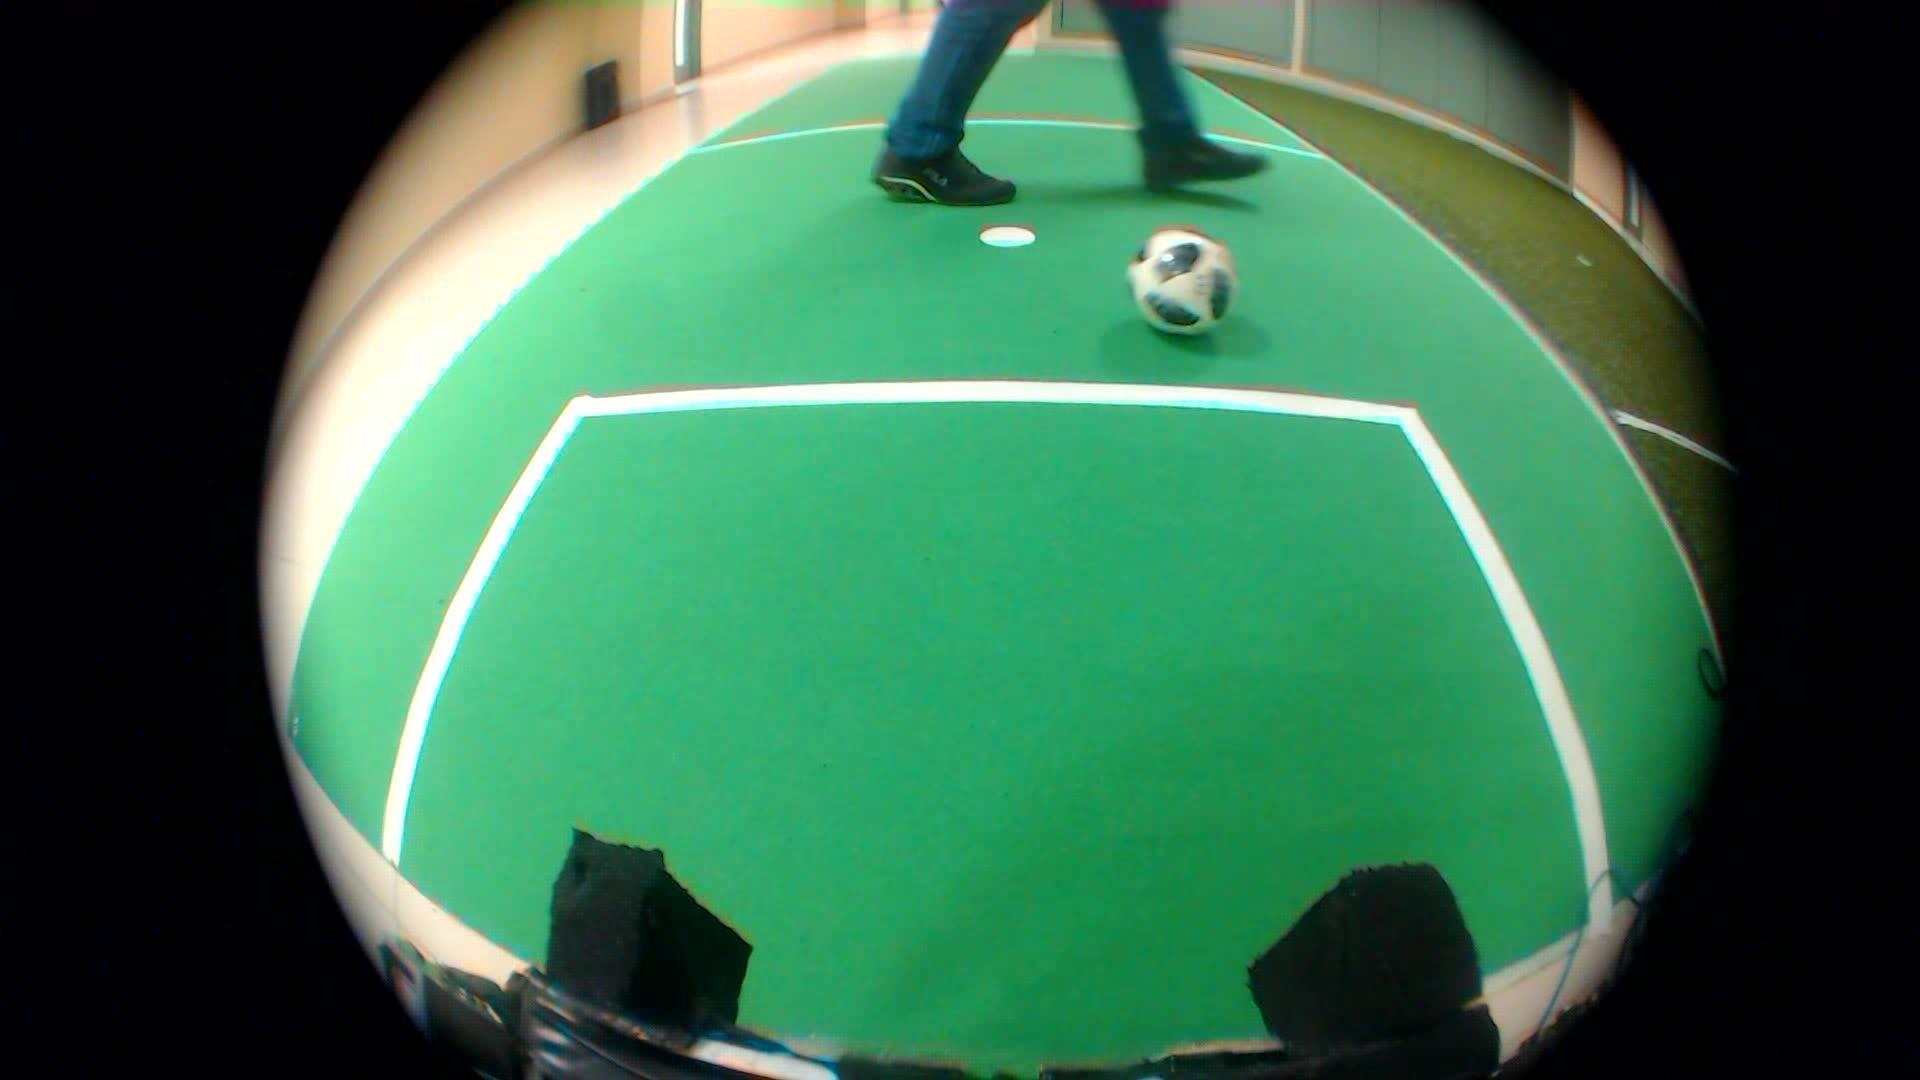ball: (1116, 204, 1247, 356)
